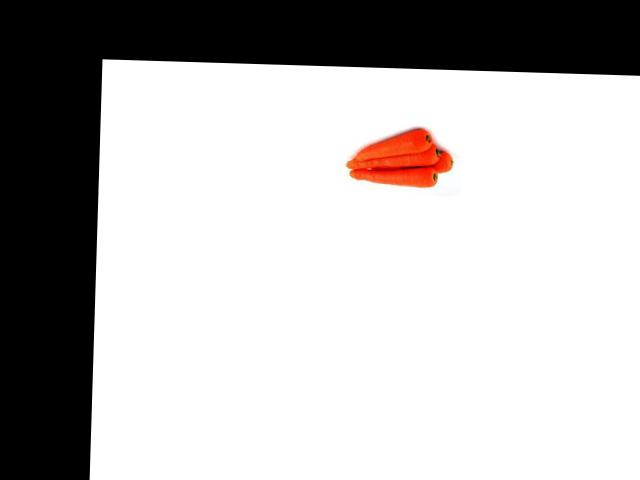carrot: (352, 127, 435, 154)
